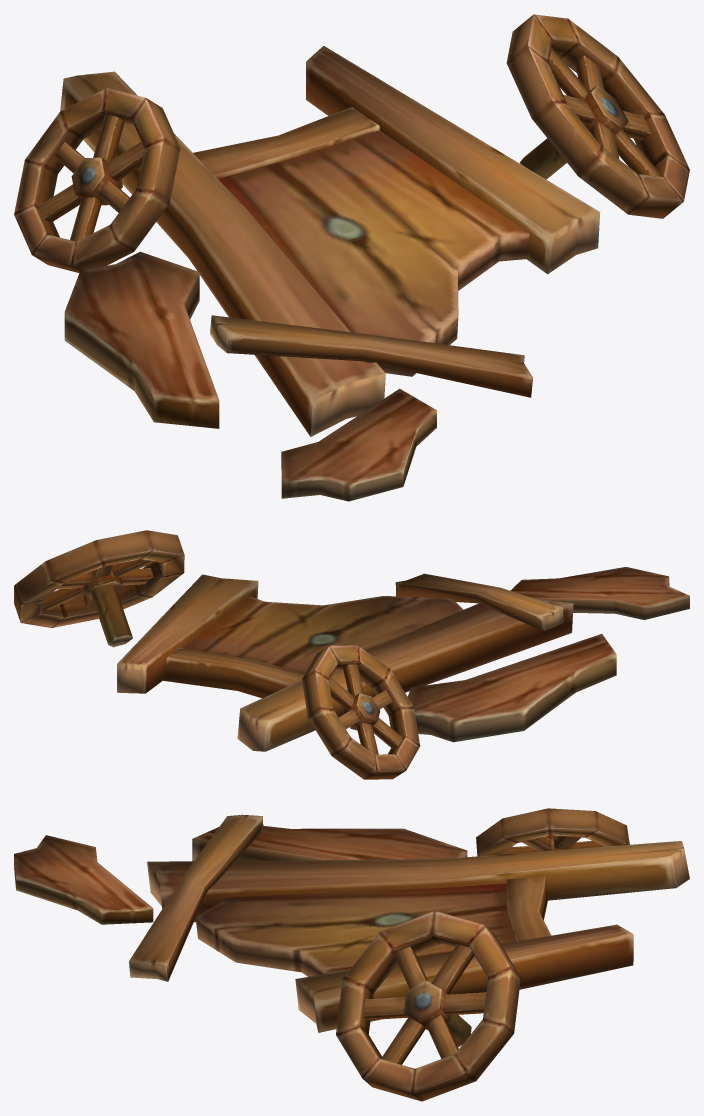
File: FH_Env_obj_06.FBX
The picture shows the model from 3 angles, top to bottom: view 1: azimuth 30°, elevation 25°; view 2: azimuth 150°, elevation 25°; view 3: azimuth 270°, elevation 25°; orthographic projection. The views are drawn at different scales.
Parts seen in each view (by area): view 1: Che_02, Object04, Object03, Object01, Object05, Object02; view 2: Che_02, Object04, Object01, Object03, Object02, Object05; view 3: Che_02, Object04, Object02, Object05, Object01, Object03.
Part boxes in pixels (bbox=[...]): Che_02: bbox=[60, 46, 600, 436]; Object04: bbox=[506, 14, 689, 218]; Object03: bbox=[14, 88, 180, 272]; Object01: bbox=[64, 251, 219, 428]; Object05: bbox=[210, 315, 532, 397]; Object02: bbox=[281, 388, 436, 501]; Che_02: bbox=[117, 574, 573, 751]; Object04: bbox=[14, 530, 184, 647]; Object01: bbox=[407, 634, 616, 742]; Object03: bbox=[302, 645, 420, 779]; Object02: bbox=[510, 567, 689, 619]; Object05: bbox=[395, 573, 563, 630]; Che_02: bbox=[147, 841, 689, 1032]; Object04: bbox=[336, 911, 520, 1101]; Object02: bbox=[14, 835, 153, 924]; Object05: bbox=[129, 814, 263, 981]; Object01: bbox=[192, 825, 467, 861]; Object03: bbox=[476, 808, 629, 856].
Bounding box in the file's own units: 87.69 × 22.61 × 95.84.
